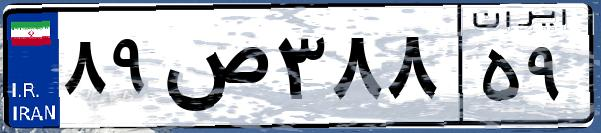3: (270, 28, 330, 110)
5: (475, 38, 525, 113)
8: (385, 28, 445, 110), (330, 28, 385, 110), (57, 26, 110, 100)
9: (525, 38, 570, 115), (110, 28, 158, 98)
ص: (158, 20, 270, 120)
